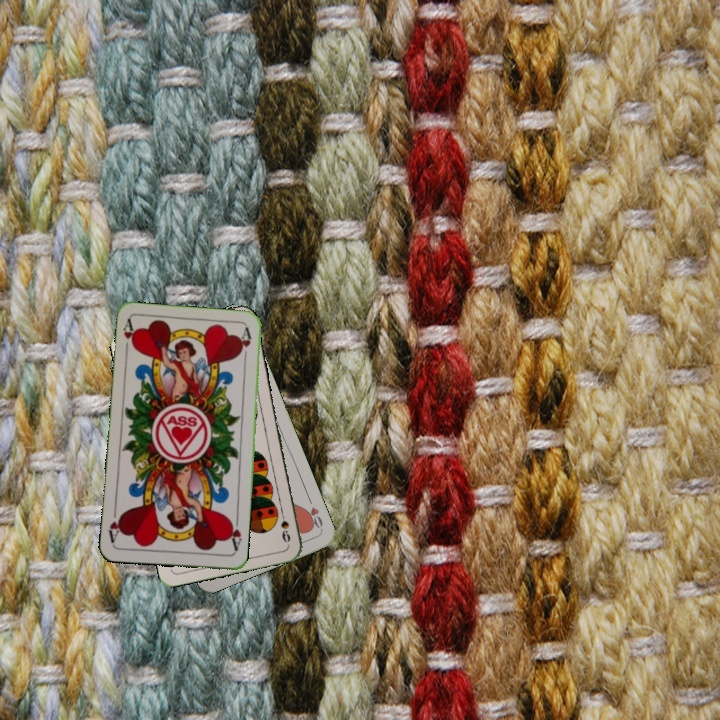HA: (224, 514, 244, 554), (119, 316, 138, 357)
HO: (301, 493, 325, 532)
S9: (276, 505, 293, 545)
